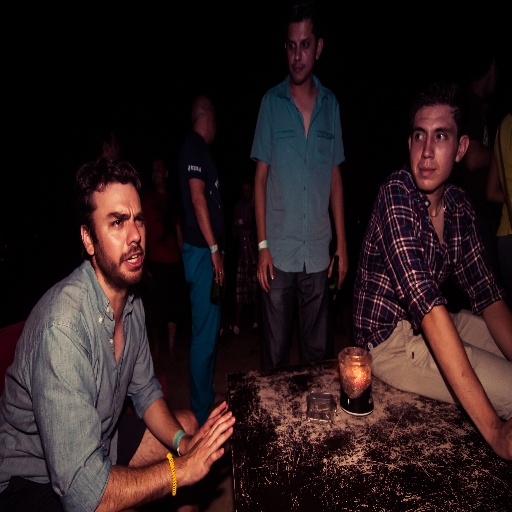hand: (151, 393, 224, 491), (186, 401, 229, 456), (326, 244, 350, 306), (256, 245, 274, 297), (495, 420, 511, 465), (210, 248, 226, 291)
